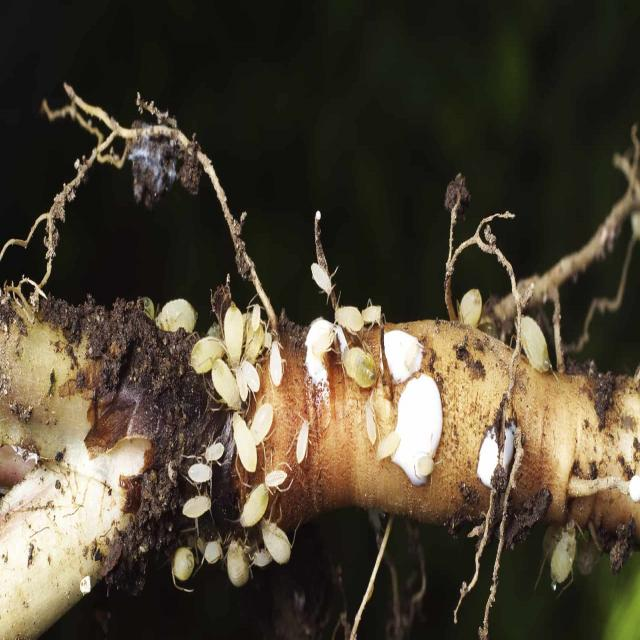Aphid-Grouped-: (145, 261, 295, 606)
Aphid-Grown-: (223, 407, 264, 486), (340, 334, 381, 400), (233, 482, 275, 536), (186, 329, 228, 381), (208, 354, 242, 416), (290, 410, 322, 472), (155, 296, 199, 338), (356, 392, 386, 452), (307, 256, 339, 303), (221, 300, 245, 362), (177, 484, 216, 522), (187, 453, 220, 491), (202, 427, 226, 468), (262, 462, 291, 493)
